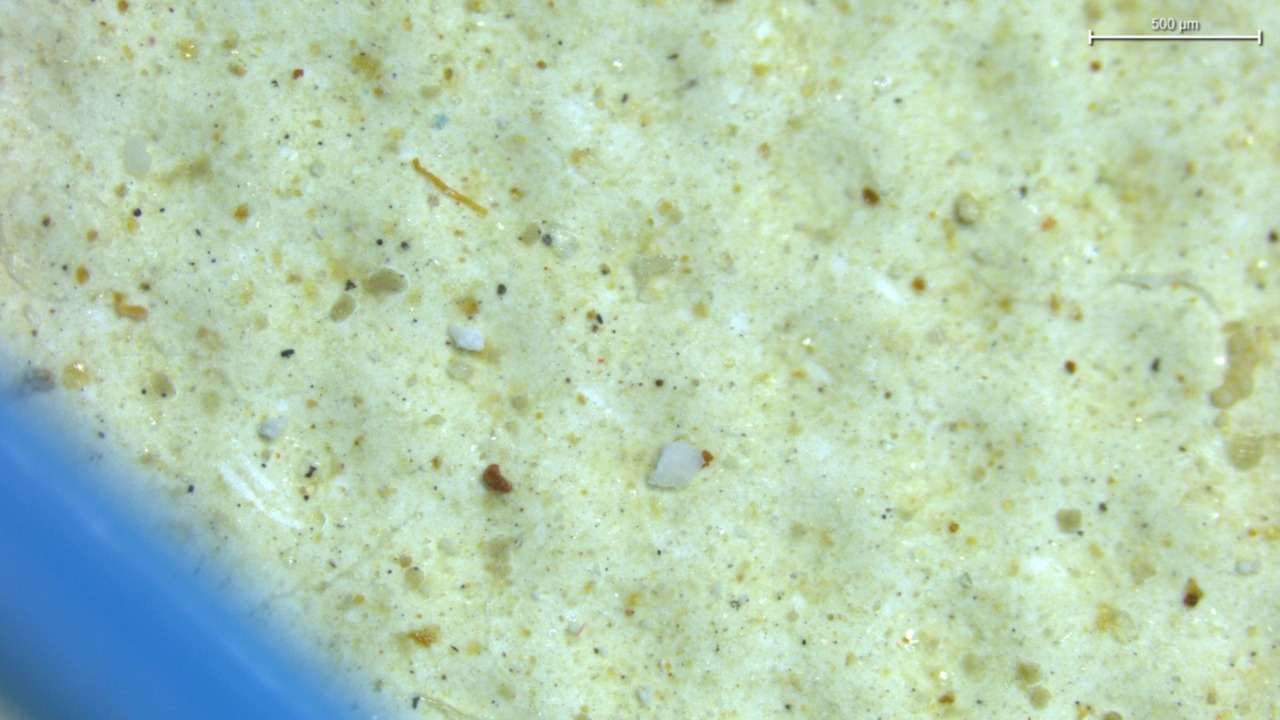microplastic_fragment: (648, 440, 707, 489), (448, 324, 484, 351), (258, 416, 287, 440), (467, 337, 474, 343)
